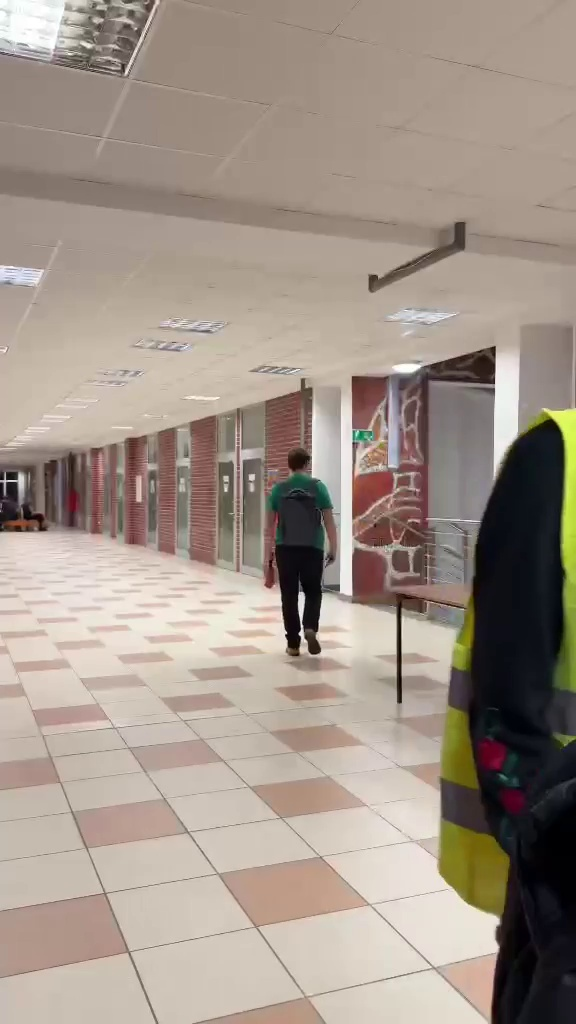no vest: (264, 416, 346, 660)
vest: (438, 381, 576, 989)
